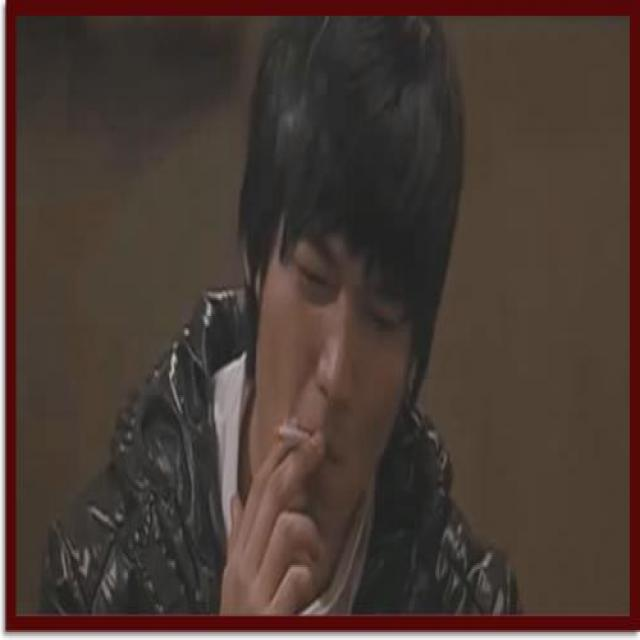smoking: (269, 422, 327, 454)
